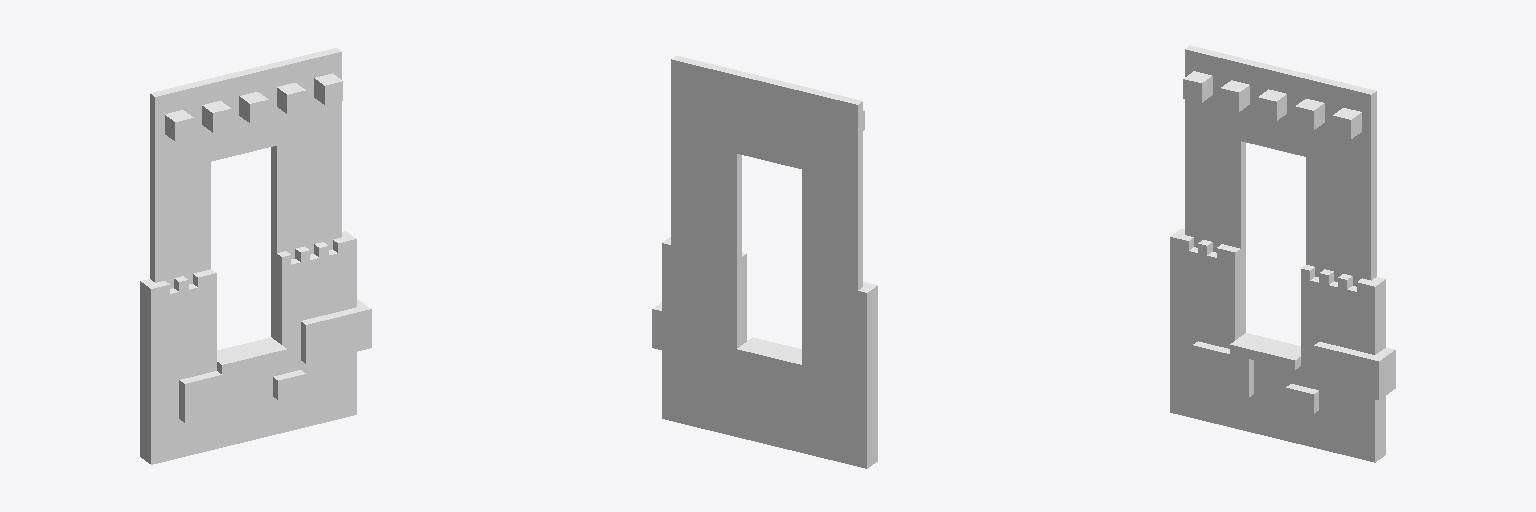
The model's file is SmallBuilding03-1.obj.
3 views of the same model, side by side, from view 1: azimuth 30°, elevation 25°; view 2: azimuth 150°, elevation 25°; view 3: azimuth 330°, elevation 25° (orthographic).
Visible parts, largest first — view 1: object 1; view 2: object 1; view 3: object 1.
Part boxes in pixels (x1,y1,x2,y2): object 1: (140, 48, 371, 464); object 1: (652, 56, 877, 468); object 1: (1170, 45, 1395, 462).
Bounding box in the file's own units: 2.3 × 3.7 × 0.3.